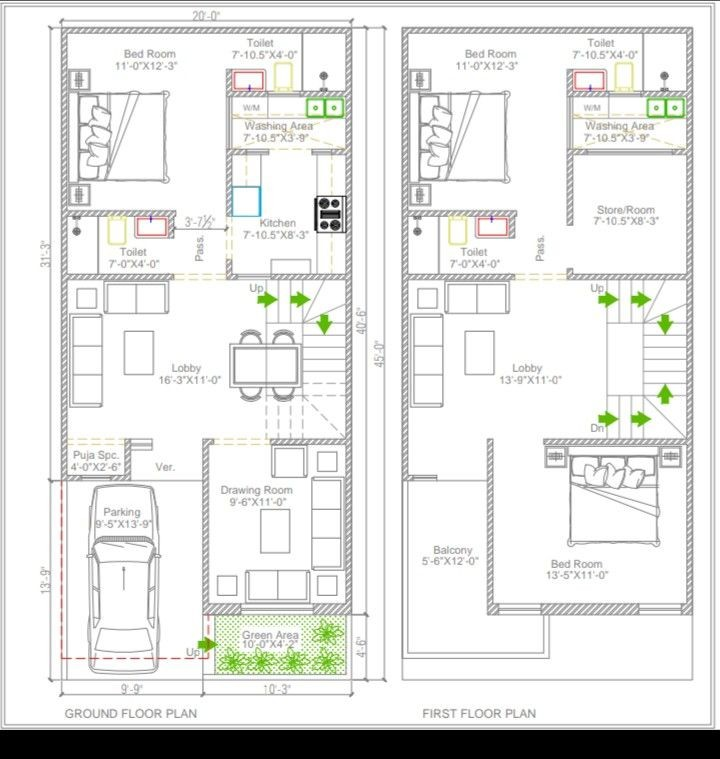room: (405, 279, 720, 450), (58, 273, 346, 434), (483, 433, 695, 617), (403, 29, 574, 222), (59, 30, 229, 213), (211, 441, 357, 629), (570, 96, 696, 288), (404, 450, 498, 653), (227, 155, 355, 283), (67, 218, 233, 282), (566, 20, 689, 93), (407, 210, 523, 278), (230, 95, 345, 149), (230, 36, 339, 92), (63, 434, 129, 476)
wall: (679, 24, 707, 620), (43, 19, 76, 494), (340, 25, 359, 619), (394, 27, 414, 483), (57, 17, 353, 42), (397, 19, 699, 43), (539, 583, 644, 625), (195, 436, 216, 617), (219, 67, 243, 217), (398, 195, 526, 223), (483, 434, 501, 628), (539, 429, 694, 446), (566, 265, 693, 285), (57, 263, 177, 284), (396, 265, 521, 283), (57, 205, 189, 219), (564, 142, 583, 232), (113, 437, 148, 480), (268, 432, 349, 450), (302, 77, 355, 102), (272, 270, 354, 286), (308, 598, 356, 621), (639, 84, 696, 100), (200, 601, 245, 621), (222, 84, 268, 101), (503, 208, 524, 243), (562, 88, 608, 99), (333, 144, 354, 164), (222, 261, 242, 282), (564, 71, 577, 96), (226, 142, 245, 158)
window: (581, 139, 668, 162), (239, 601, 317, 621), (560, 96, 587, 150), (497, 600, 546, 628), (637, 596, 684, 621), (497, 598, 546, 620), (240, 267, 278, 293), (81, 465, 119, 488), (606, 83, 648, 103), (270, 83, 301, 104)
